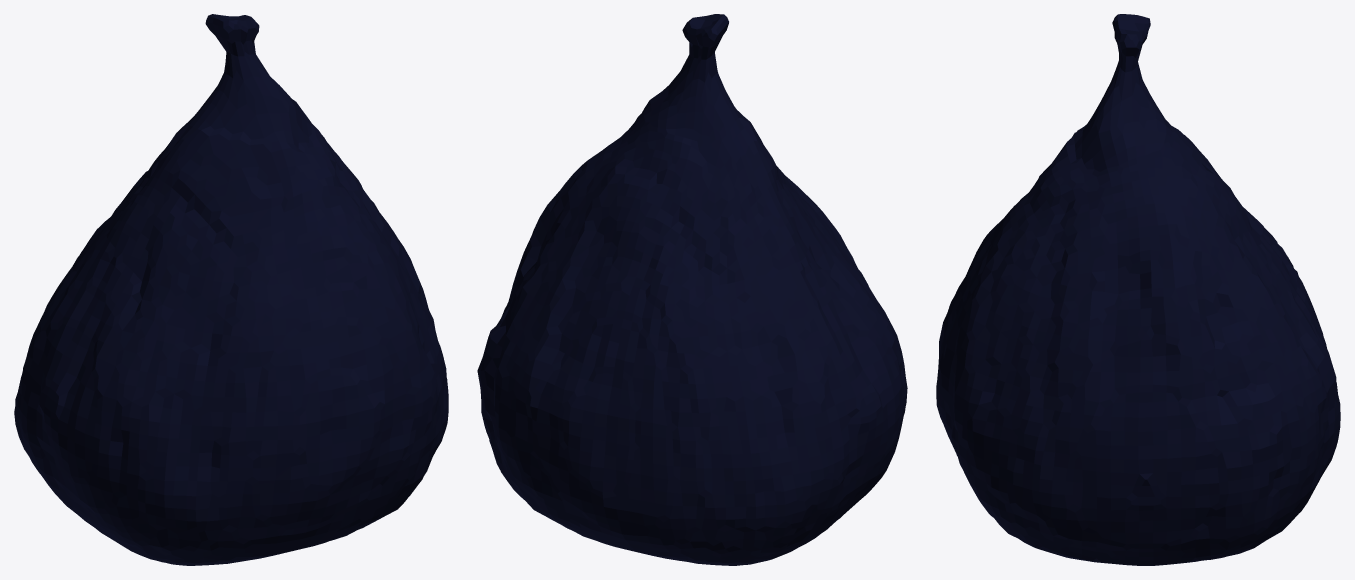
File: Sanito.fbx
3 renders of one model, left to right at view 1: azimuth 30°, elevation 25°; view 2: azimuth 150°, elevation 25°; view 3: azimuth 270°, elevation 25°, orthographic. The views are drawn at different scales.
Parts seen in each view (by area): view 1: Esfera UV; view 2: Esfera UV; view 3: Esfera UV.
Part boxes in pixels (x1,y1,x2,y2): Esfera UV: [14, 14, 448, 565]; Esfera UV: [477, 14, 907, 565]; Esfera UV: [936, 14, 1340, 565].
Bounding box in the file's own units: 272 × 368 × 265.
